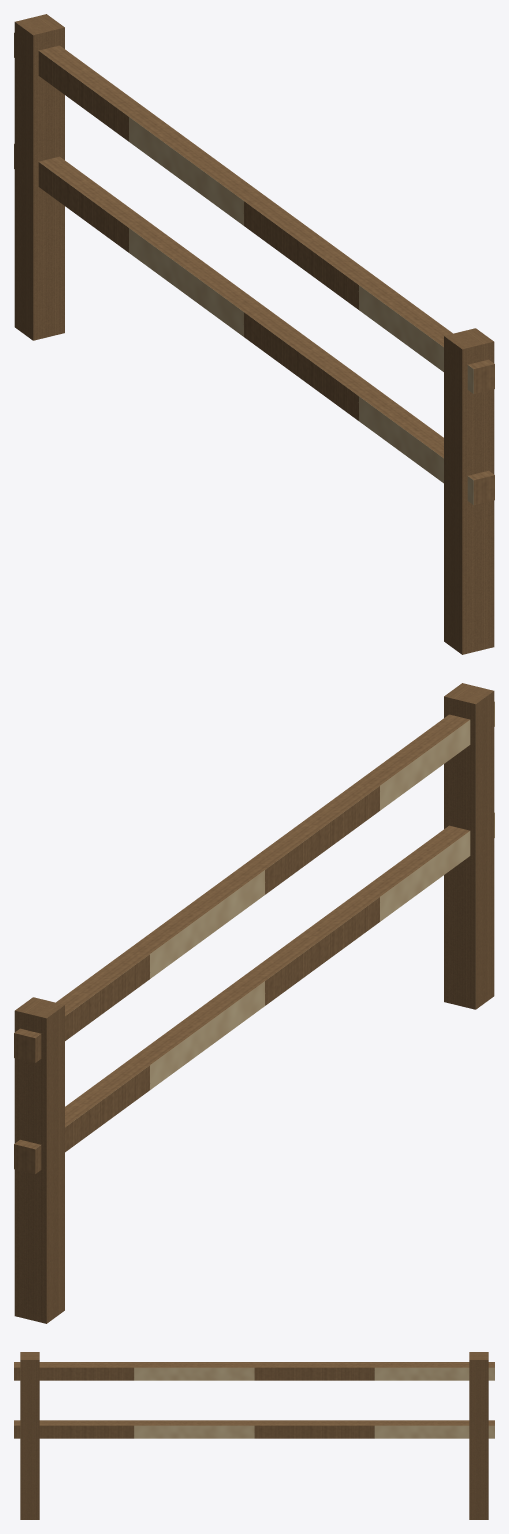
File: rail_fence.glb
3 views of the same model, one above another, from view 1: azimuth 30°, elevation 25°; view 2: azimuth 150°, elevation 25°; view 3: azimuth 270°, elevation 25° (orthographic). The views are drawn at different scales.
Visible parts, largest first — view 1: rail_fence; view 2: rail_fence; view 3: rail_fence.
Part boxes in pixels (<box>): rail_fence: <box>14,14,494,654</box>; rail_fence: <box>14,683,494,1323</box>; rail_fence: <box>14,1352,494,1519</box>.
Bounding box in the file's own units: 0.12 × 1.1 × 3.
1 material, 1 textured.
